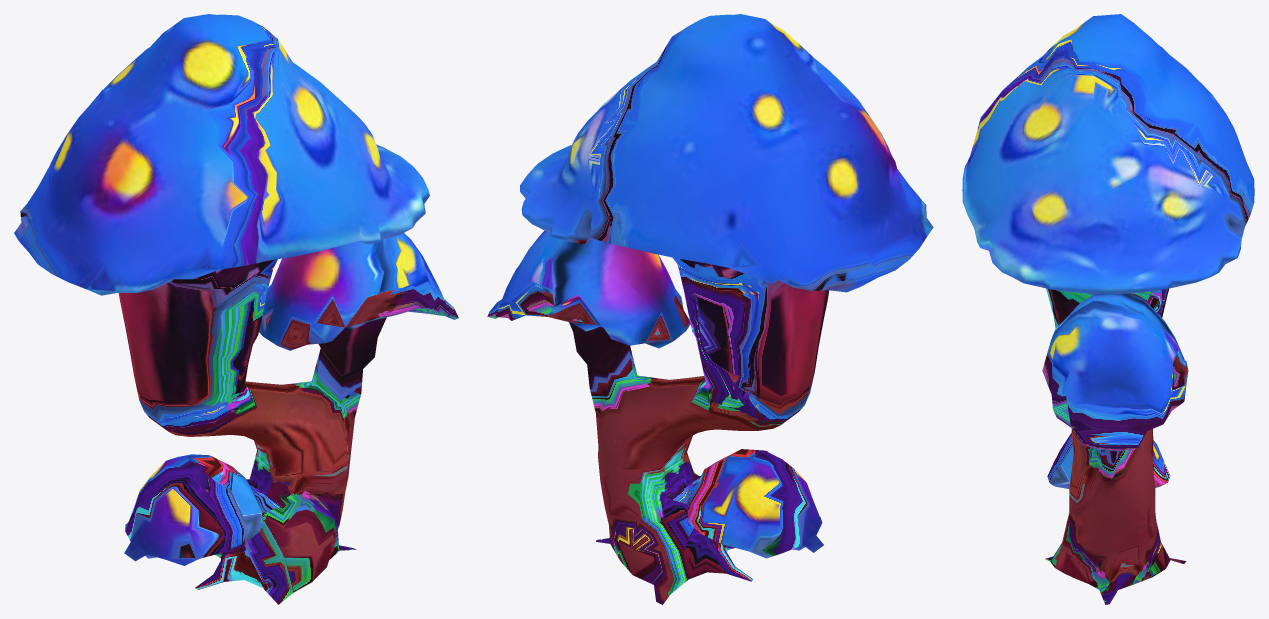
The picture shows the model from 3 angles, left to right: view 1: azimuth 30°, elevation 25°; view 2: azimuth 150°, elevation 25°; view 3: azimuth 270°, elevation 25°; orthographic projection. The views are drawn at different scales.
Visible parts, largest first — view 1: model.003; view 2: model.003; view 3: model.003.
Boxes of the visible parts, bbox=[...] form: model.003: bbox=[14, 14, 458, 604]; model.003: bbox=[487, 14, 933, 604]; model.003: bbox=[962, 14, 1254, 604].
Size of the model in its own units: 0.8862 by 1.19 by 0.6015.
Materials: 1 (1 with a texture image).
